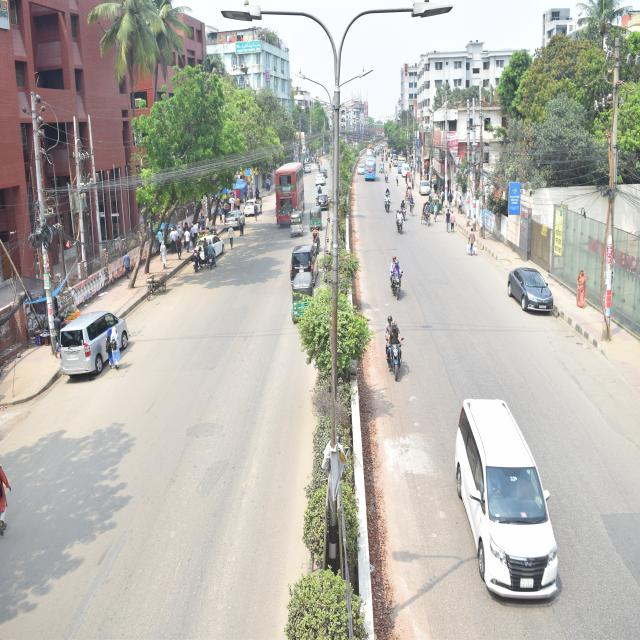bus: (272, 157, 307, 228)
car: (508, 254, 560, 321), (197, 233, 225, 260)
microbus: (449, 384, 570, 611), (56, 308, 133, 382), (286, 239, 324, 283)
motorbike: (381, 312, 408, 376), (386, 253, 412, 308), (381, 184, 393, 217), (396, 207, 408, 235)
